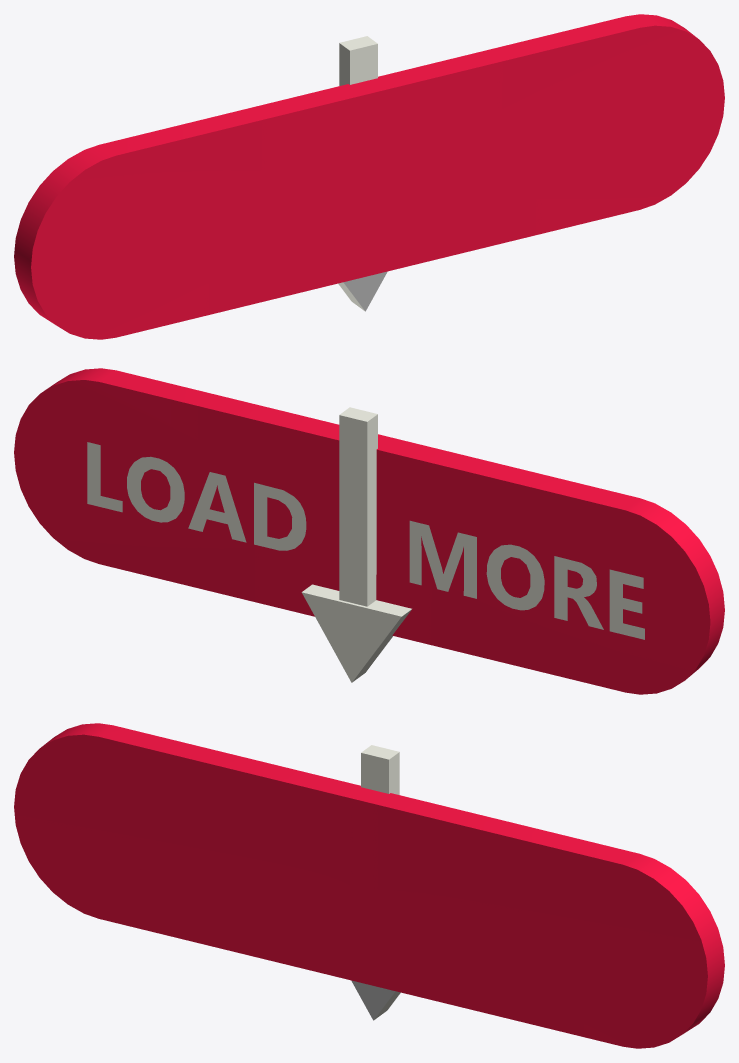
The model's file is load_more_btn.glb.
3 views of the same model, one above another, from view 1: azimuth 30°, elevation 25°; view 2: azimuth 150°, elevation 25°; view 3: azimuth 330°, elevation 25° (orthographic).
Parts seen in each view (by area): view 1: refresh_btn.001, Cube.001; view 2: refresh_btn.001, Text.010, Cube.001; view 3: refresh_btn.001, Cube.001.
Boxes of the visible parts, x1=… form: refresh_btn.001: x1=14, y1=14, x2=724, y2=339; Cube.001: x1=338, y1=36, x2=387, y2=311; refresh_btn.001: x1=14, y1=368, x2=724, y2=694; Text.010: x1=87, y1=442, x2=644, y2=639; Cube.001: x1=301, y1=407, x2=411, y2=682; refresh_btn.001: x1=14, y1=723, x2=724, y2=1048; Cube.001: x1=351, y1=745, x2=400, y2=1020.
Size of the model in its own units: 2.04 by 0.7374 by 0.1347.
Materials: 1 (1 with a texture image).
